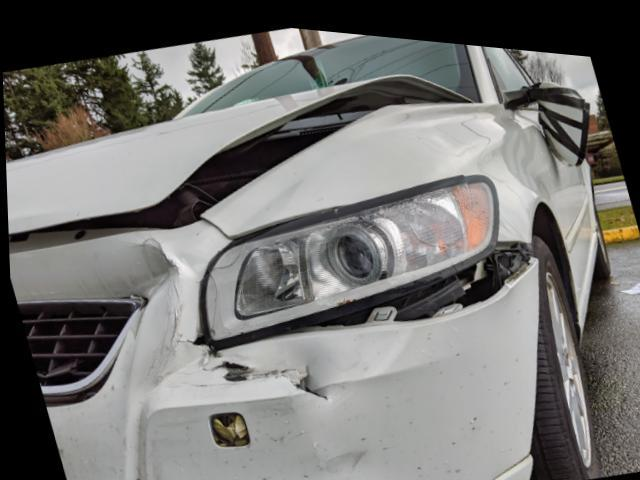crack: (203, 350, 325, 393)
dent: (104, 241, 180, 383), (289, 335, 335, 391)
dislocated part: (7, 67, 474, 240), (209, 226, 536, 347), (500, 69, 588, 156)
lamp broken: (199, 170, 497, 339)
no part: (205, 409, 246, 444)
